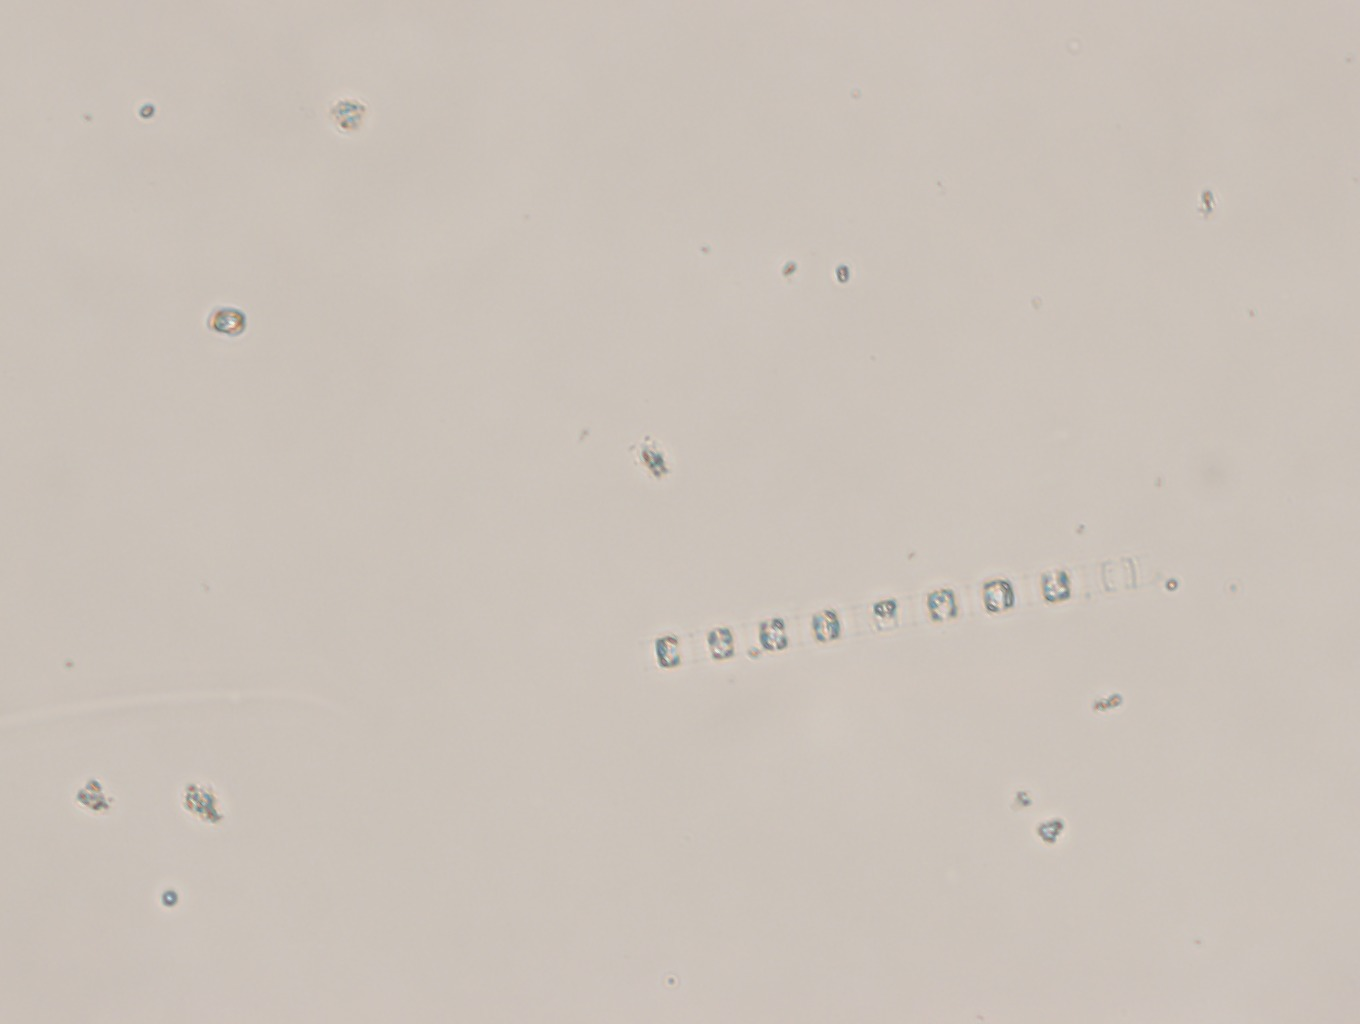skeletonema: (658, 558, 1139, 668)
